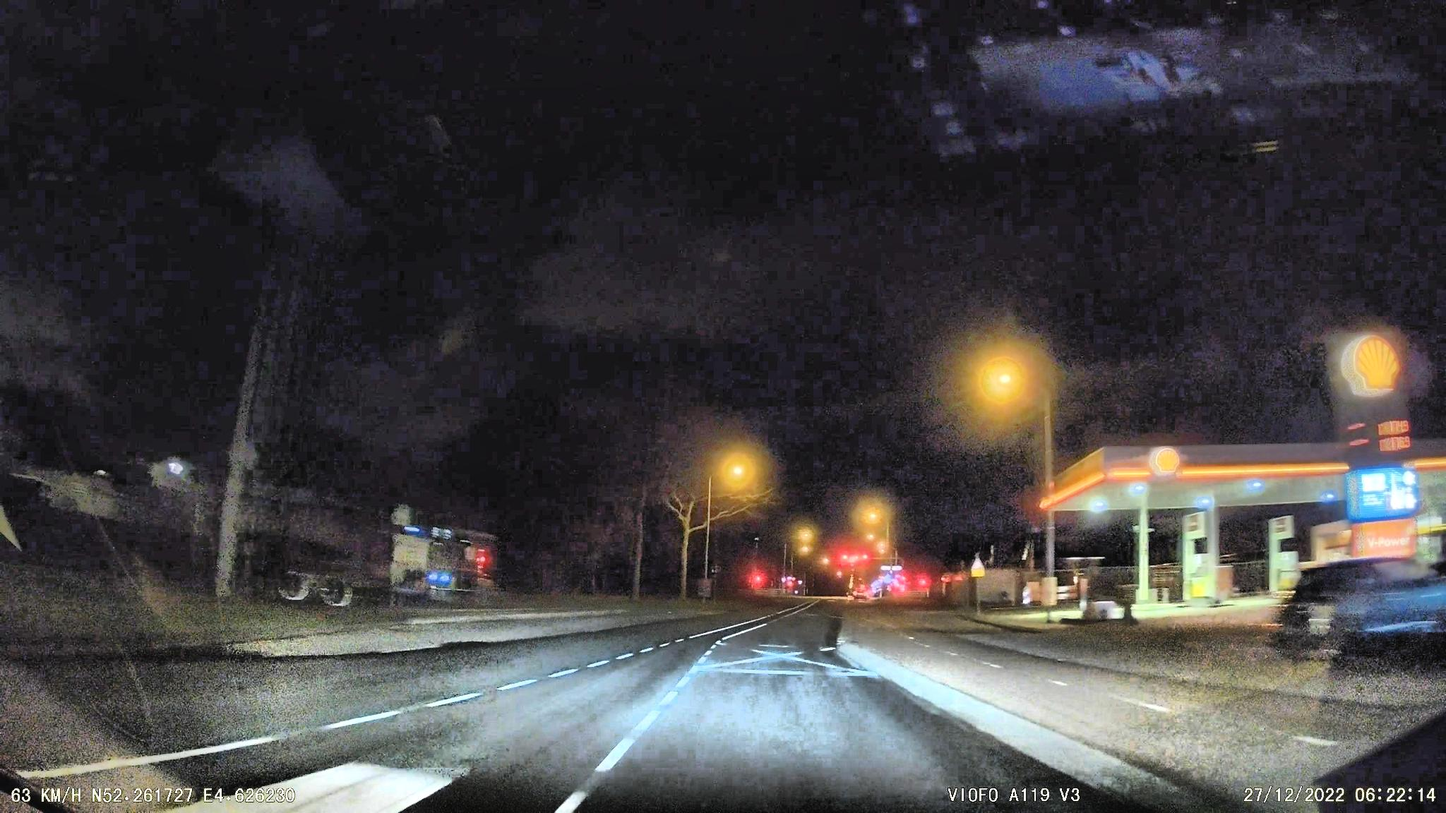Roads: (192, 598, 1248, 813)
